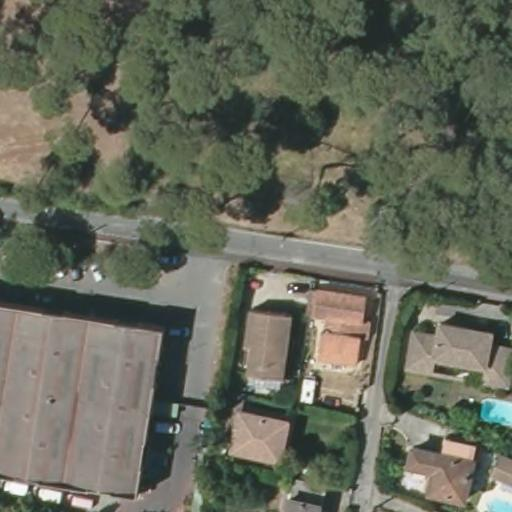pool: (478, 390, 511, 428), (472, 483, 511, 511)
